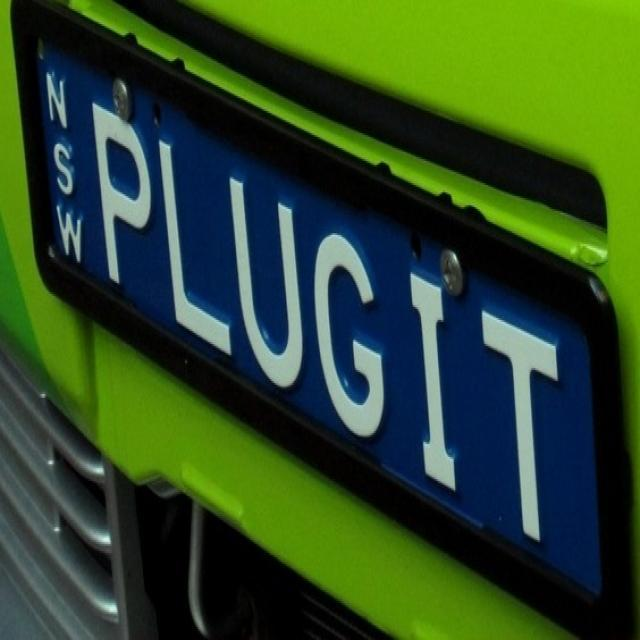licenseplate: (11, 0, 634, 640)
